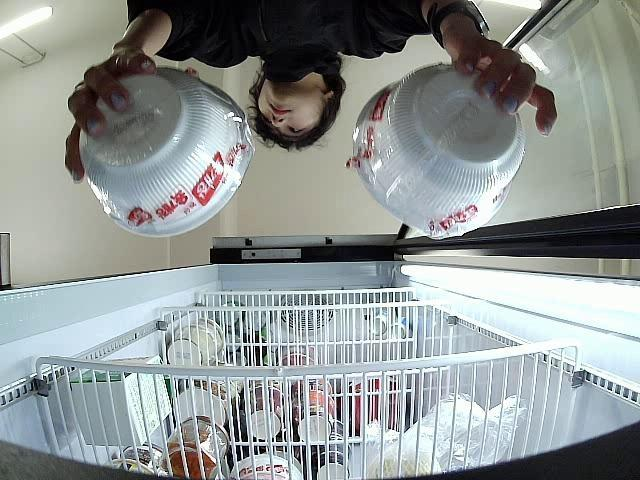09_yukGaeJang: (355, 61, 525, 240), (82, 66, 253, 238)
